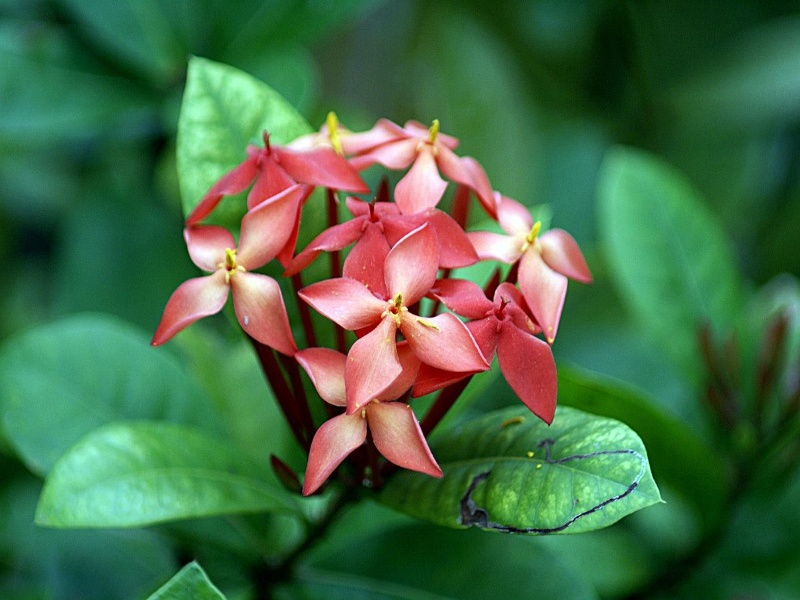Ixora: (138, 93, 618, 509)
